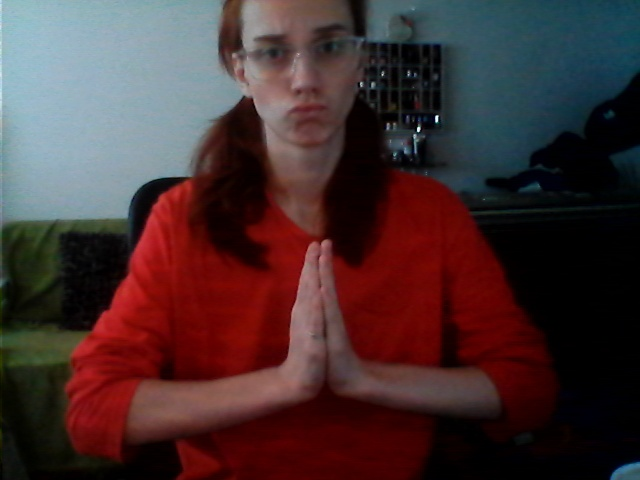prosim: (231, 229, 417, 428)
